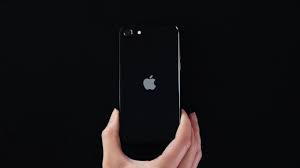Hand: (91, 97, 208, 168)
Smartphone: (118, 25, 180, 159)
